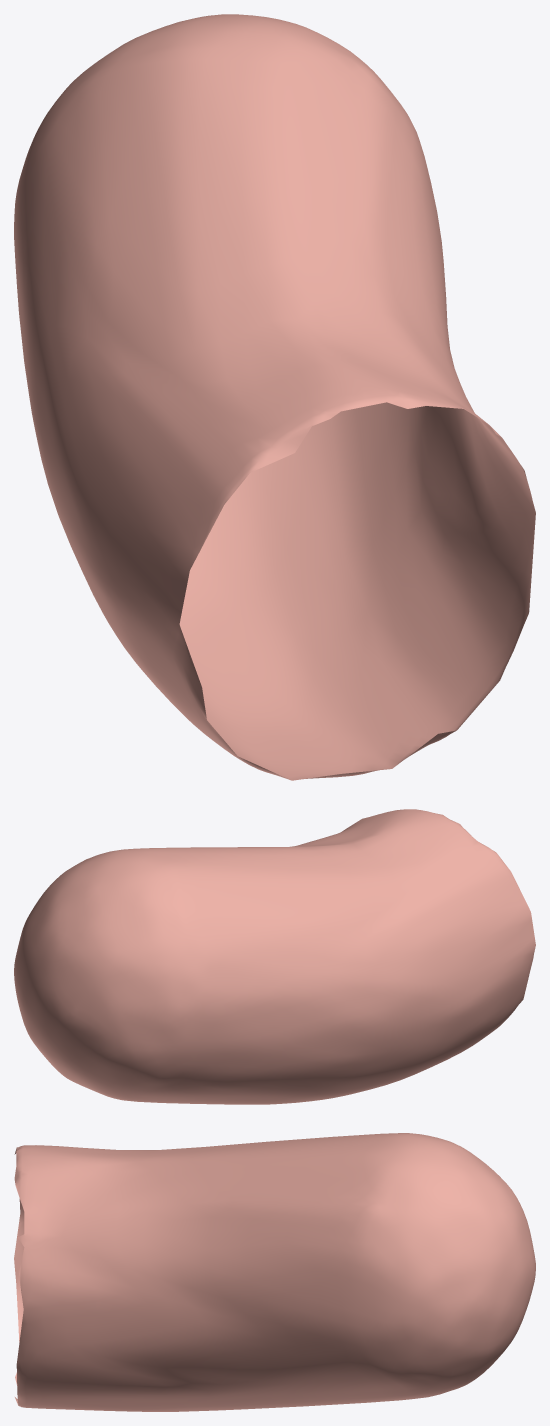
The model's file is aorta.glb.
3 renders of one model, top to bottom at view 1: azimuth 30°, elevation 25°; view 2: azimuth 150°, elevation 25°; view 3: azimuth 270°, elevation 25°, orthographic. The views are drawn at different scales.
Visible parts, largest first — view 1: structure; view 2: structure; view 3: structure.
Part boxes in pixels (box(x1,y1,x2,y2)): structure: box(14, 14, 535, 780); structure: box(14, 809, 535, 1104); structure: box(14, 1133, 535, 1411).
Bounding box in the file's own units: 35.7 × 30.7 × 47.78.
